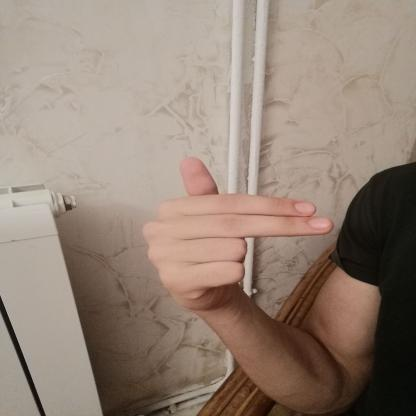GHAYN: (124, 148, 346, 320)
